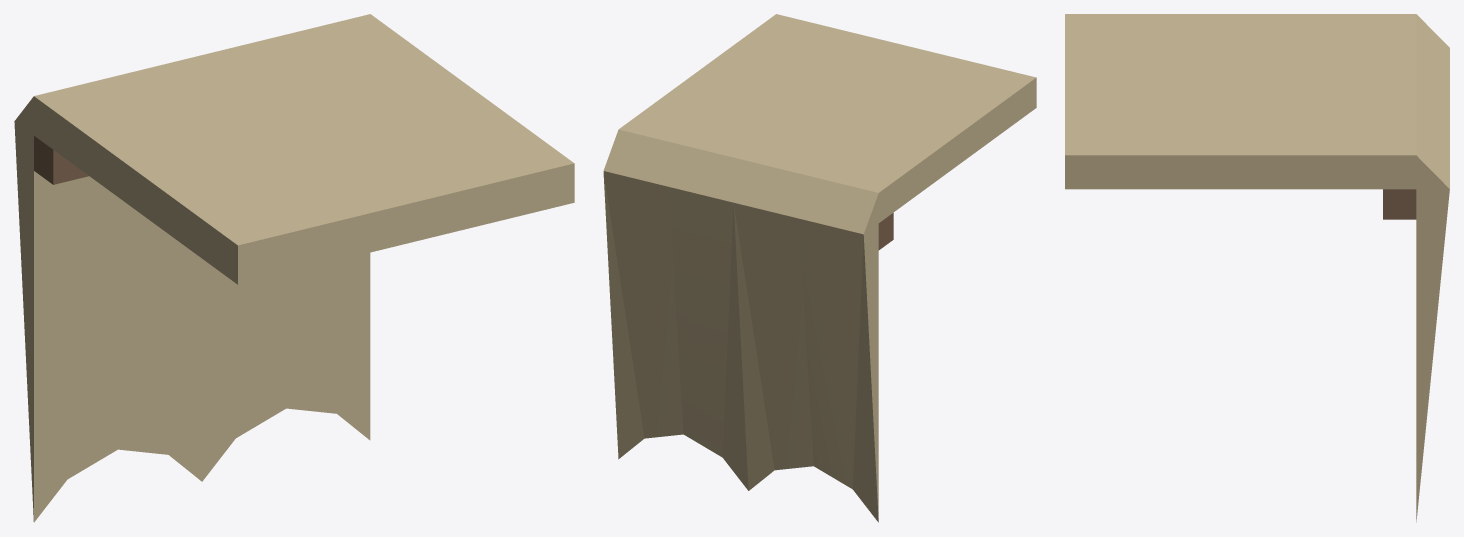
The model's file is Canopy_Side.obj.
3 renders of one model, left to right at view 1: azimuth 30°, elevation 25°; view 2: azimuth 150°, elevation 25°; view 3: azimuth 270°, elevation 25°, orthographic. The views are drawn at different scales.
Parts seen in each view (by area): view 1: object2, object1; view 2: object2; view 3: object2, object1.
Boxes of the visible parts, <box> form: object2: <box>14,14,574,522</box>; object1: <box>34,136,88,184</box>; object2: <box>603,14,1036,522</box>; object2: <box>1065,14,1449,522</box>; object1: <box>1383,189,1416,219</box>.
Size of the model in its own units: 1 by 1.21 by 1.15.
